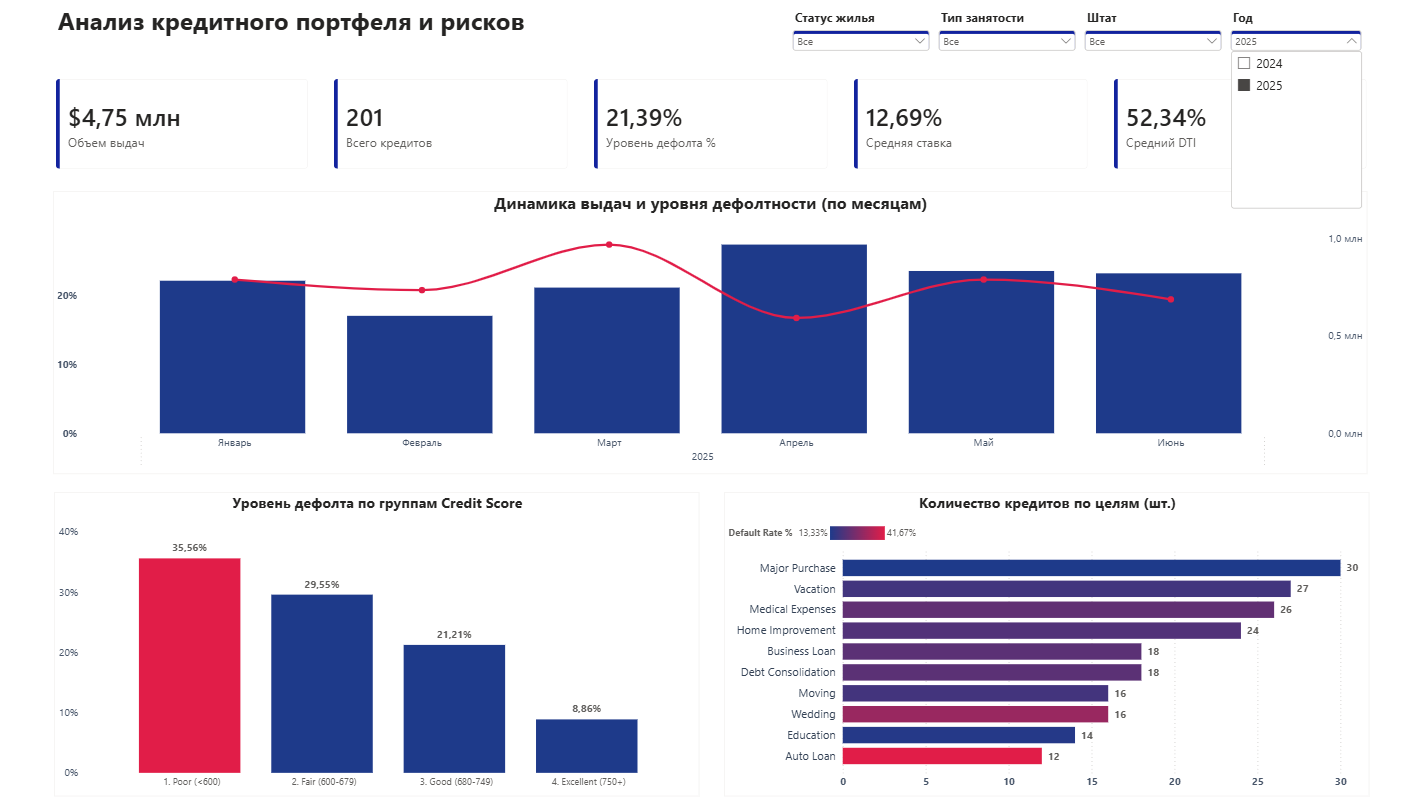

The dashboard page shown, as its layout file describes it:
{"tool":"powerbi","page":{"name":"Part 1","canvas":[1920,1080],"ordinal":0},"visuals":[{"type":"shape","box":[80,640,1760,432],"z":0},{"type":"shape","box":[78.8,247.5,1758.3,397.5],"z":1000},{"type":"cardVisual","fields":{"Data":["fact_loans.Total Volume"]},"box":[81.5,95.9,365.3,152.4],"z":2000},{"type":"cardVisual","fields":{"Data":["fact_loans.Total Loans"]},"box":[446.8,95.5,341.4,152.9],"z":3000},{"type":"cardVisual","fields":{"Data":["fact_loans.Default Rate %"]},"box":[788.4,95.5,341.4,152.9],"z":4000},{"type":"cardVisual","fields":{"Data":["Avg(fact_loans.avg_interest_rate)"]},"box":[1130,95.5,341.4,152.9],"z":5000},{"type":"cardVisual","fields":{"Data":["Avg(fact_loans.avg_dti_ratio)"]},"box":[1471.5,95.9,366.6,152.4],"z":6000},{"type":"lineClusteredColumnComboChart","title":"Динамика выдач и уровня дефолтности (по месяцам)","fields":{"Category":["fact_loans.application_date.Изменение.Иерархия дат.Год","fact_loans.application_date.Изменение.Иерархия дат.Месяц"],"Y":["fact_loans.Total Volume"],"Y2":["fact_loans.Default Rate %"]},"box":[94.7,260,1726.5,372.3],"z":7000},{"type":"columnChart","title":"Уровень дефолта по группам Credit Score","fields":{"Category":["dim_borrowers.Credit Score Group"],"Y":["fact_loans.Default Rate %"]},"box":[96,656,848,400],"z":8000},{"type":"barChart","title":"Количество кредитов по целям (шт.)","fields":{"Category":["fact_loans.loan_purpose"],"Y":["fact_loans.Total Loans"]},"box":[976,656,848,400],"z":9000},{"type":"slicer","fields":{"Values":["fact_loans.application_date.Изменение.Иерархия дат.Год"]},"box":[1632,16,192,80],"z":10000},{"type":"slicer","fields":{"Values":["dim_borrowers.state"]},"box":[1440,16,200,77.1],"z":11000},{"type":"slicer","fields":{"Values":["dim_borrowers.employment_status"]},"box":[1248,16,200,77.1],"z":12000},{"type":"slicer","fields":{"Values":["dim_borrowers.home_ownership"]},"box":[1056,16,200,77.1],"z":13000},{"type":"textbox","box":[95.7,8.6,641.4,58.6],"z":14000}]}

Visuals, with their boxes in screenshot pixels (x1, y1, x2, y2), scaled from the page's 1920x1080 canvas onto the 1423x811 screenshot:
shape: detection(59, 481, 1364, 805)
shape: detection(58, 186, 1362, 484)
cardVisual - fact_loans.Total Volume: detection(60, 72, 331, 186)
cardVisual - fact_loans.Total Loans: detection(331, 72, 584, 187)
cardVisual - fact_loans.Default Rate %: detection(584, 72, 837, 187)
cardVisual - Avg(fact_loans.avg_interest_rate): detection(837, 72, 1091, 187)
cardVisual - Avg(fact_loans.avg_dti_ratio): detection(1091, 72, 1362, 186)
"Динамика выдач и уровня дефолтности (по месяцам)" lineClusteredColumnComboChart: detection(70, 195, 1350, 475)
"Уровень дефолта по группам Credit Score" columnChart: detection(71, 493, 700, 793)
"Количество кредитов по целям (шт.)" barChart: detection(723, 493, 1352, 793)
slicer - fact_loans.application_date.Изменение.Иерархия дат.Год: detection(1210, 12, 1352, 72)
slicer - dim_borrowers.state: detection(1067, 12, 1215, 70)
slicer - dim_borrowers.employment_status: detection(925, 12, 1073, 70)
slicer - dim_borrowers.home_ownership: detection(783, 12, 931, 70)
textbox: detection(71, 6, 546, 50)
